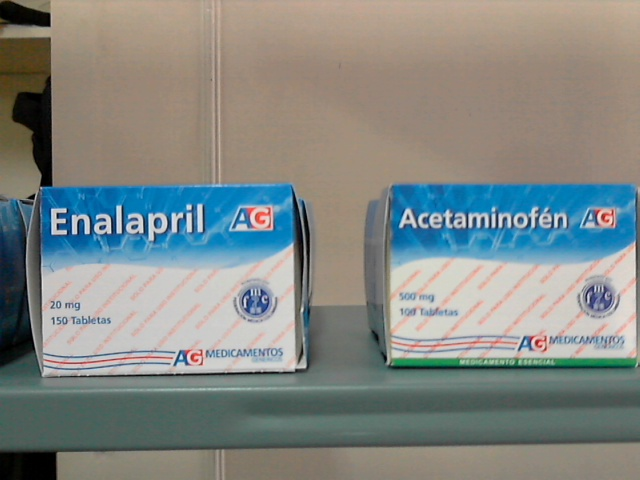AG: (39, 188, 295, 371), (391, 185, 637, 366)
